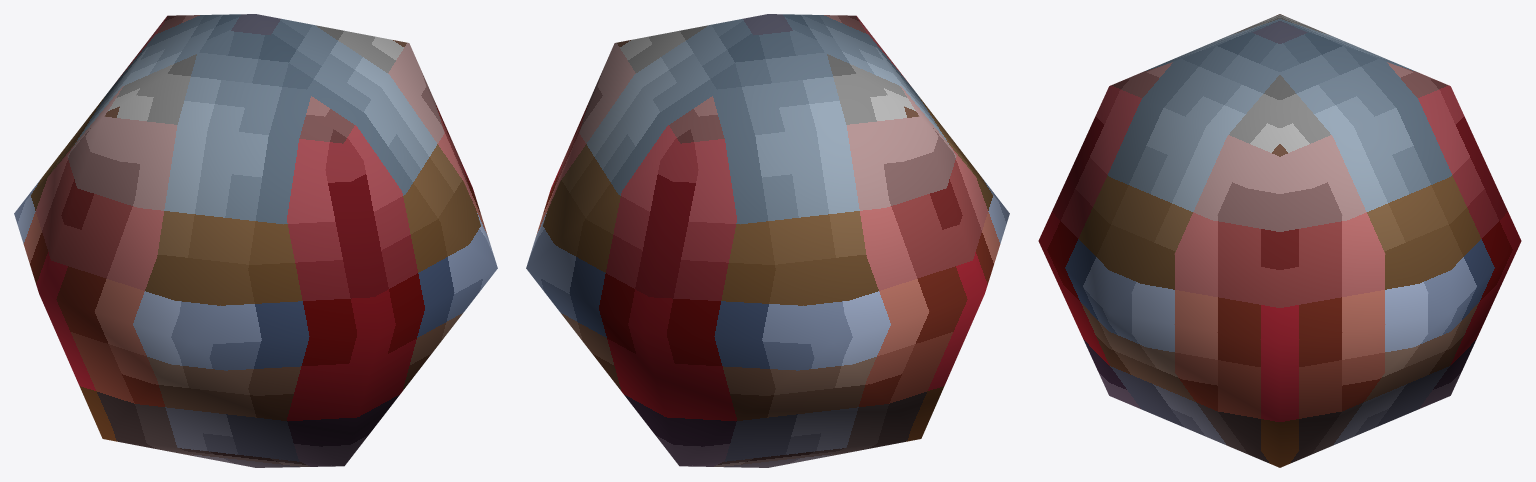
The model's file is 026_Norah_Passive_buff_02_l.fbx.
The picture shows the model from 3 angles, left to right: view 1: azimuth 30°, elevation 25°; view 2: azimuth 150°, elevation 25°; view 3: azimuth 270°, elevation 25°; orthographic projection. The views are drawn at different scales.
Parts seen in each view (by area): view 1: Norah_Ball_Rim; view 2: Norah_Ball_Rim; view 3: Norah_Ball_Rim.
Part boxes in pixels (left/top/right/bottom): Norah_Ball_Rim: left=14, top=14, right=497, bottom=467; Norah_Ball_Rim: left=526, top=14, right=1009, bottom=467; Norah_Ball_Rim: left=1038, top=14, right=1521, bottom=467.
Bounding box in the file's own units: 0.4802 × 0.4802 × 0.4802.
Materials: 1 (1 with a texture image).
